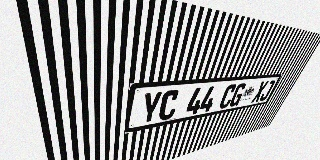4: (185, 87, 206, 116), (198, 86, 219, 113)
C: (157, 89, 181, 121), (218, 84, 238, 109)
G: (228, 83, 248, 107)
J: (258, 80, 276, 101)
X: (251, 81, 269, 103)
Y: (139, 91, 163, 125)
